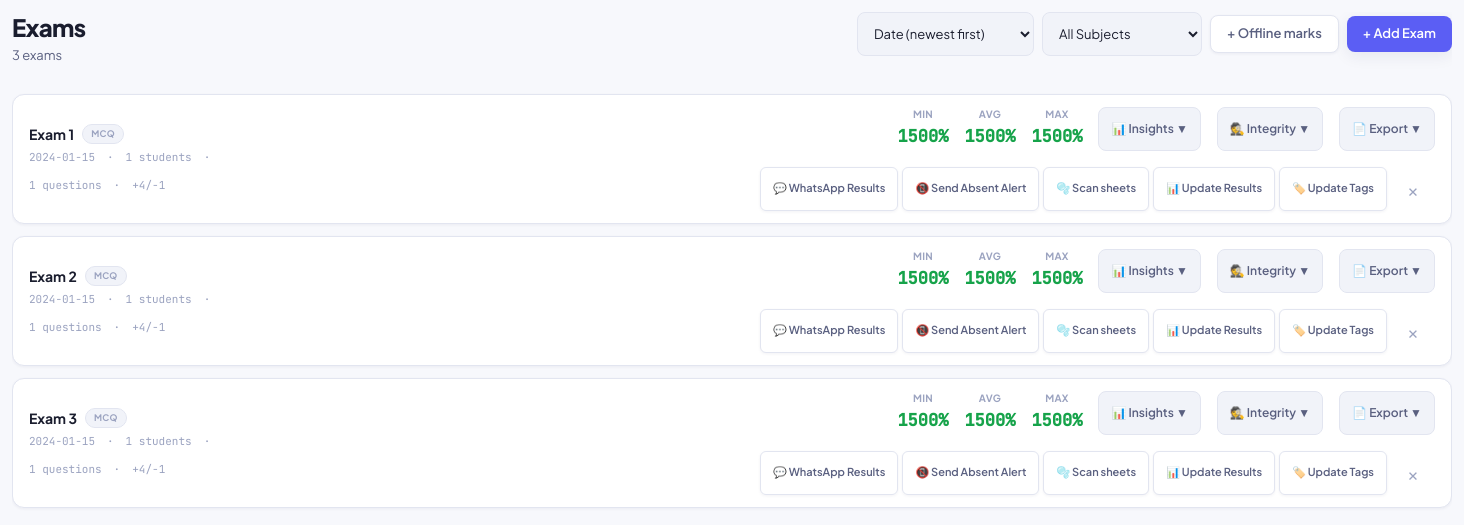
it: Exams page — filtered count display › shows "X of Y exams" when a subject filter is active
Step 1. Select "Maths" in the dropdown named "subject" → (1122, 34), box [1042,12,1202,56]
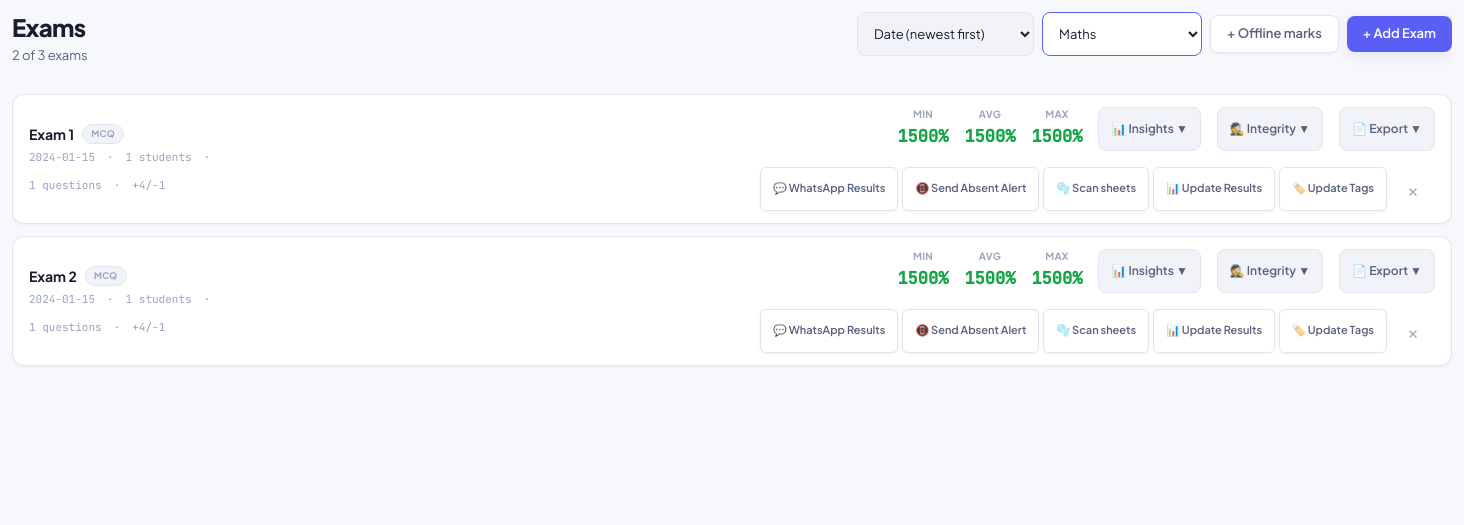
Now the text "2 of 3 exams" is shown, box [12,46,88,66]
